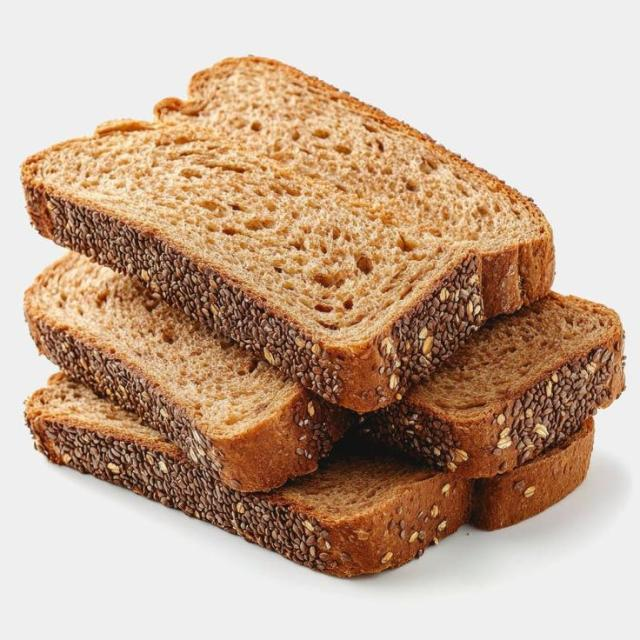sliced bread: (22, 122, 484, 411), (156, 57, 553, 316), (26, 374, 472, 576), (25, 254, 351, 491), (361, 294, 624, 477), (471, 417, 594, 530)
